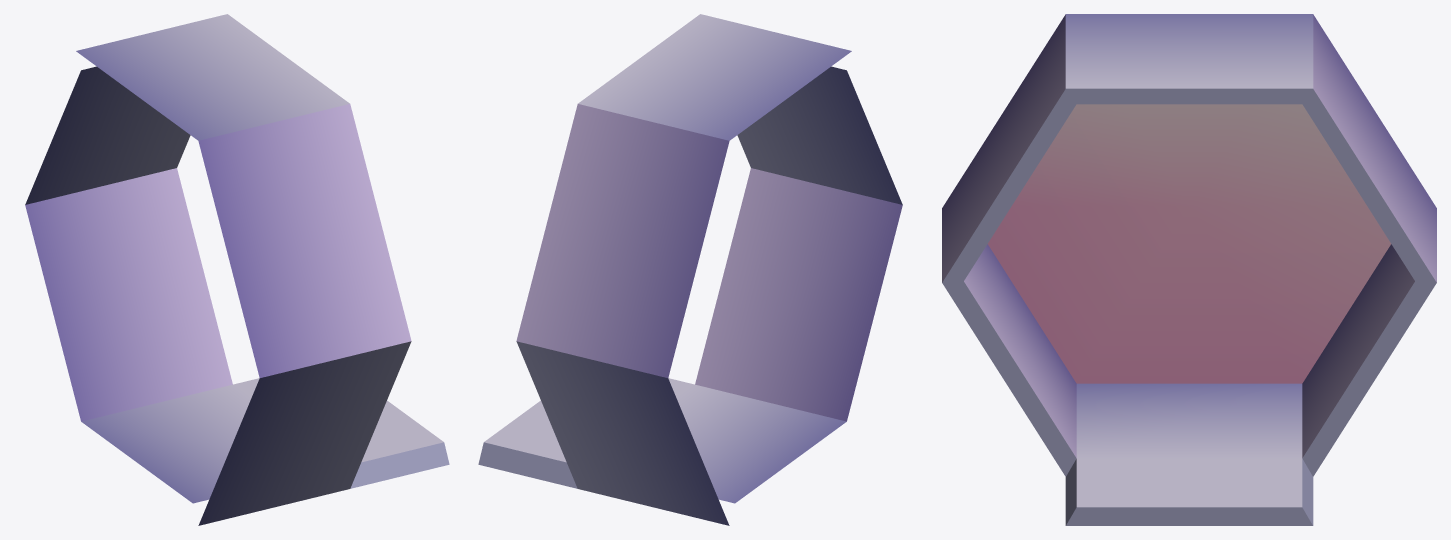
The model's file is hexagon.glb.
The picture shows the model from 3 angles, left to right: view 1: azimuth 30°, elevation 25°; view 2: azimuth 150°, elevation 25°; view 3: azimuth 270°, elevation 25°; orthographic projection.
Visible parts, largest first — view 1: Circle; view 2: Circle; view 3: Circle.
Boxes of the visible parts, bbox=[...] form: Circle: bbox=[25, 14, 449, 525]; Circle: bbox=[478, 14, 902, 525]; Circle: bbox=[942, 14, 1436, 525].
Bounding box in the file's own units: 2.08 × 3.04 × 3.51.
